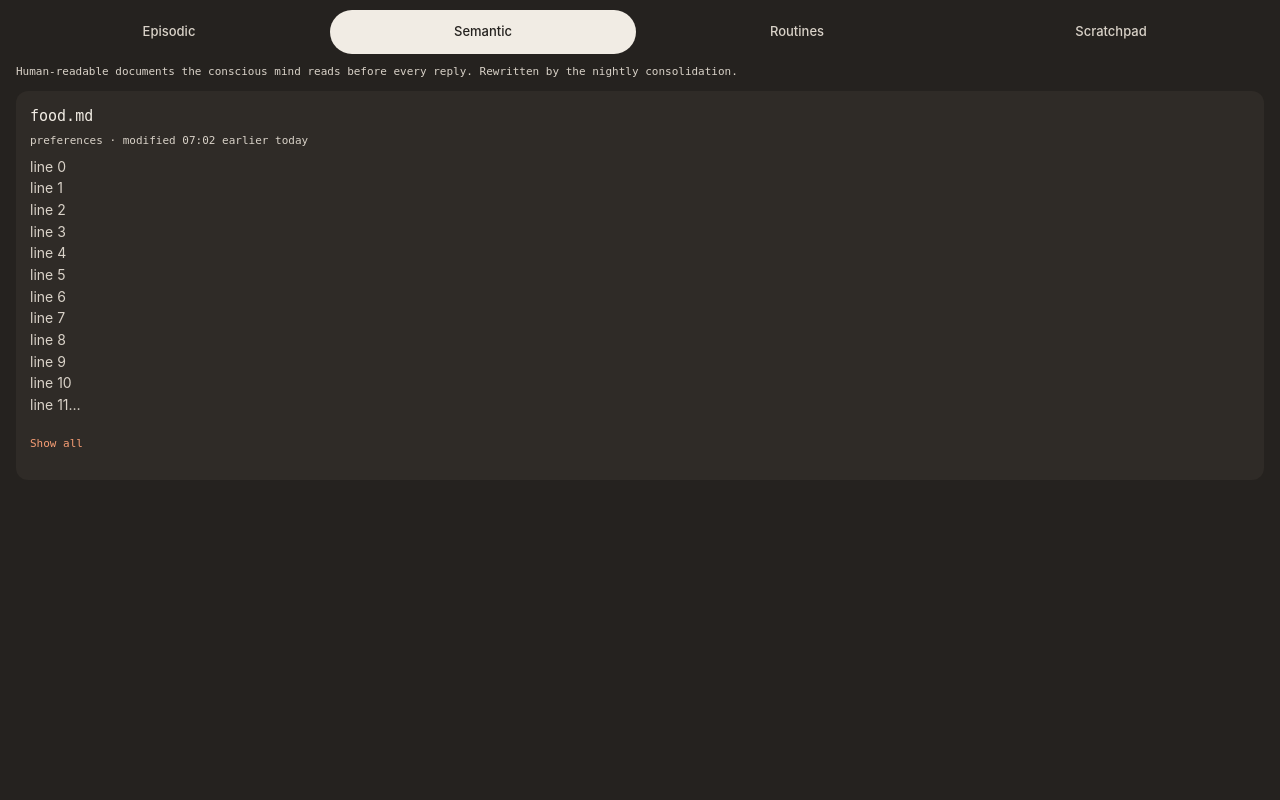
Test: MemoryBench › clamps a long semantic file until it is asked to show all of it
This screenshot has width=1280, height=800.
Click the button "Show all" at (56, 443), box [30,422,1250,466]
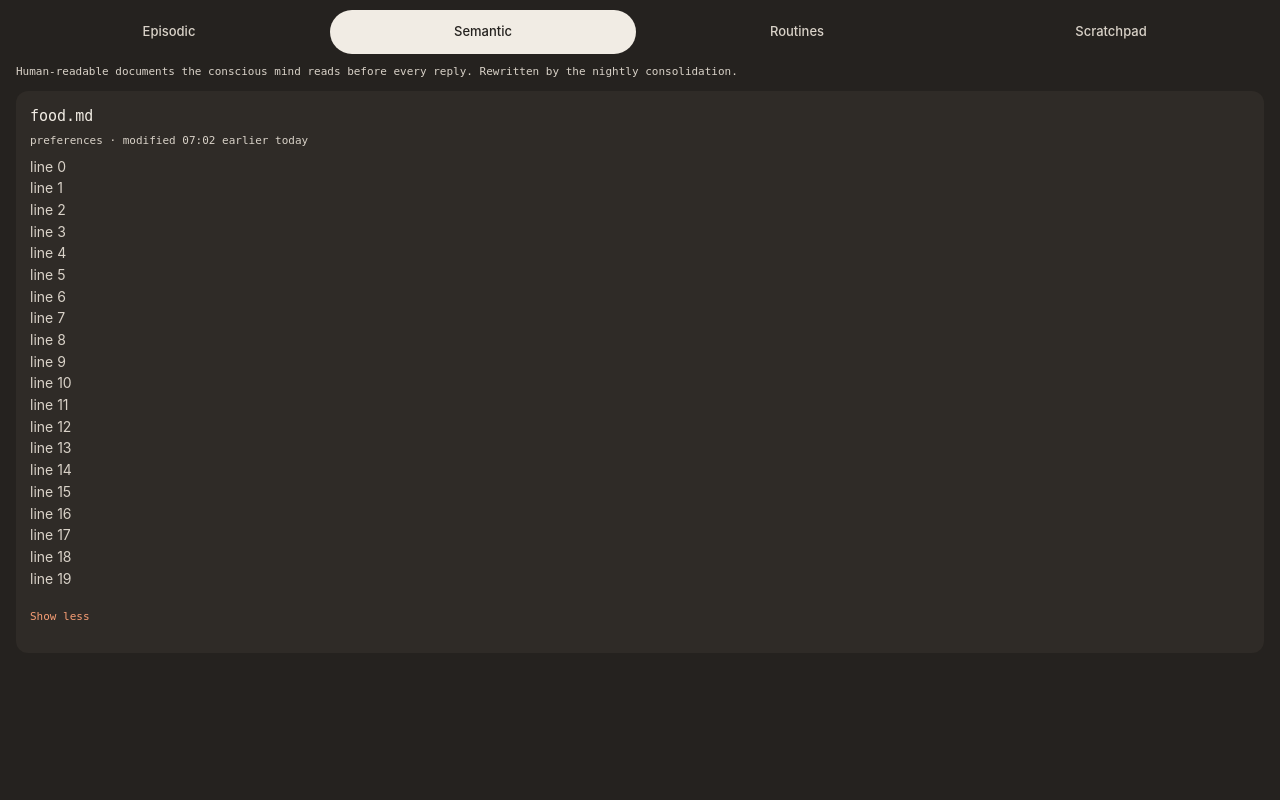
expect the button "Show less" is shown: met, box [30,595,1250,639]
